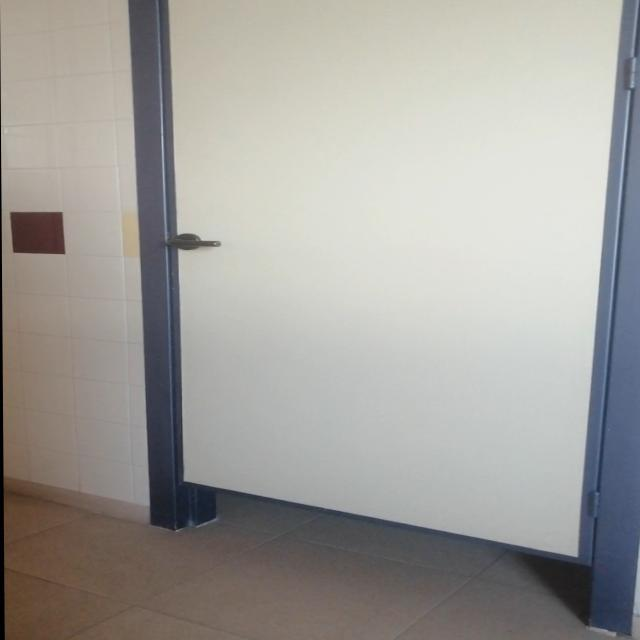door_handle: (161, 238, 225, 250)
